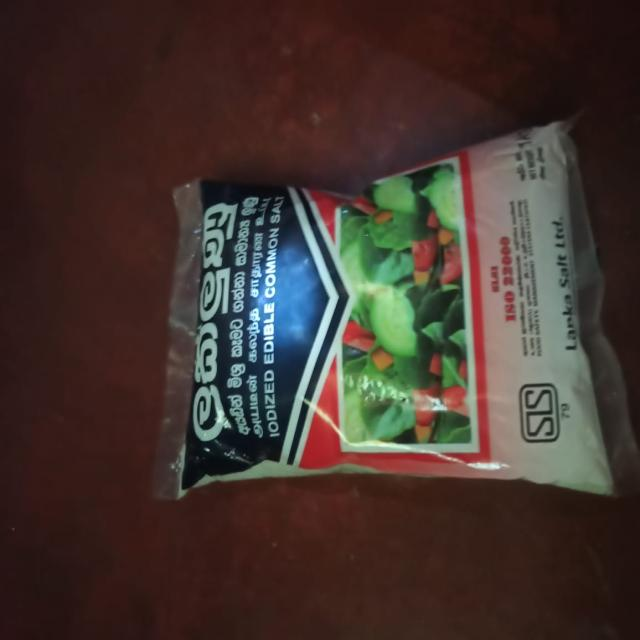Lak Lunu: (108, 119, 640, 603)
